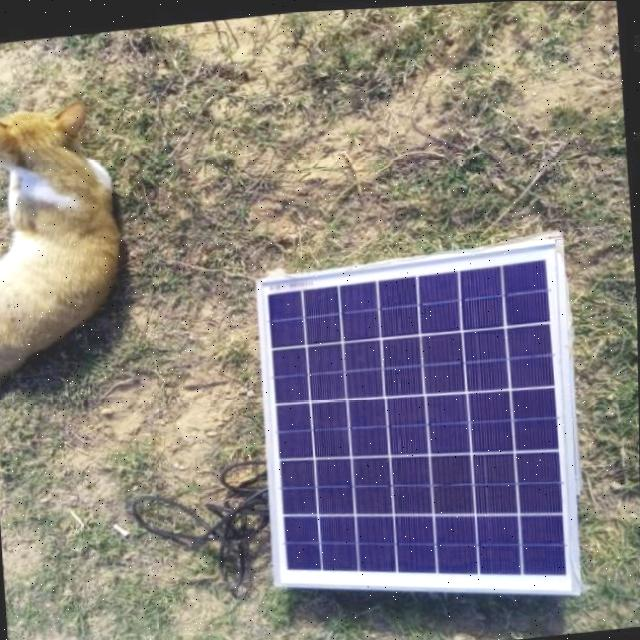Normal Solar Panel: (254, 237, 585, 622)
